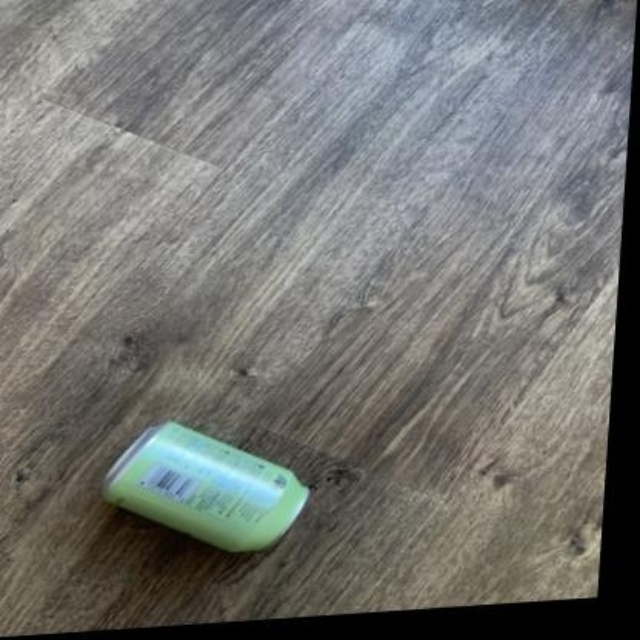trash: (103, 422, 308, 551)
